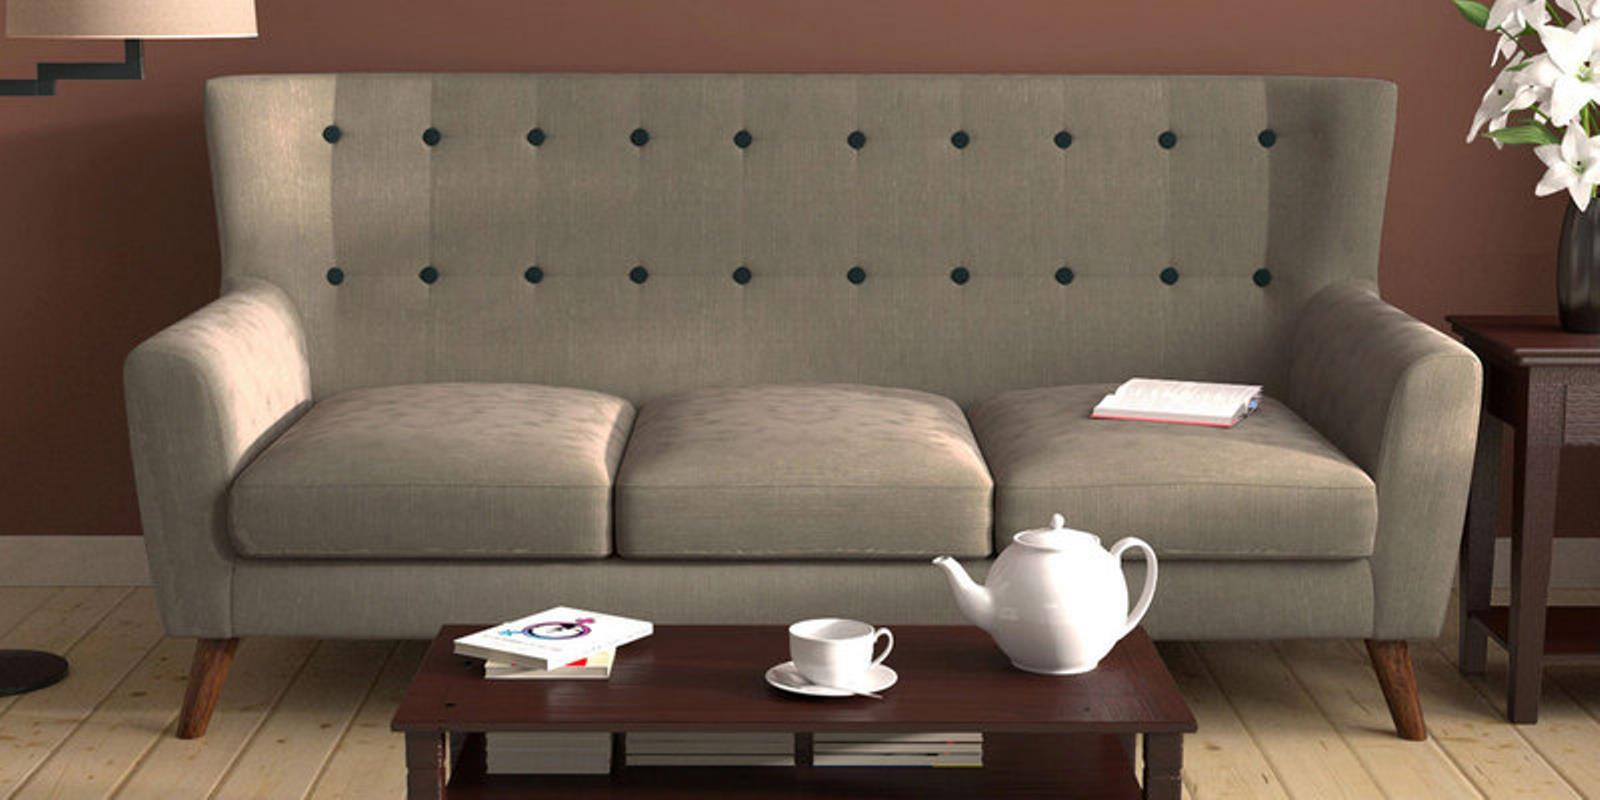Havana Three Seater Sofa in Dark Brown Colour by CasaCraft: (126, 43, 1492, 766)
